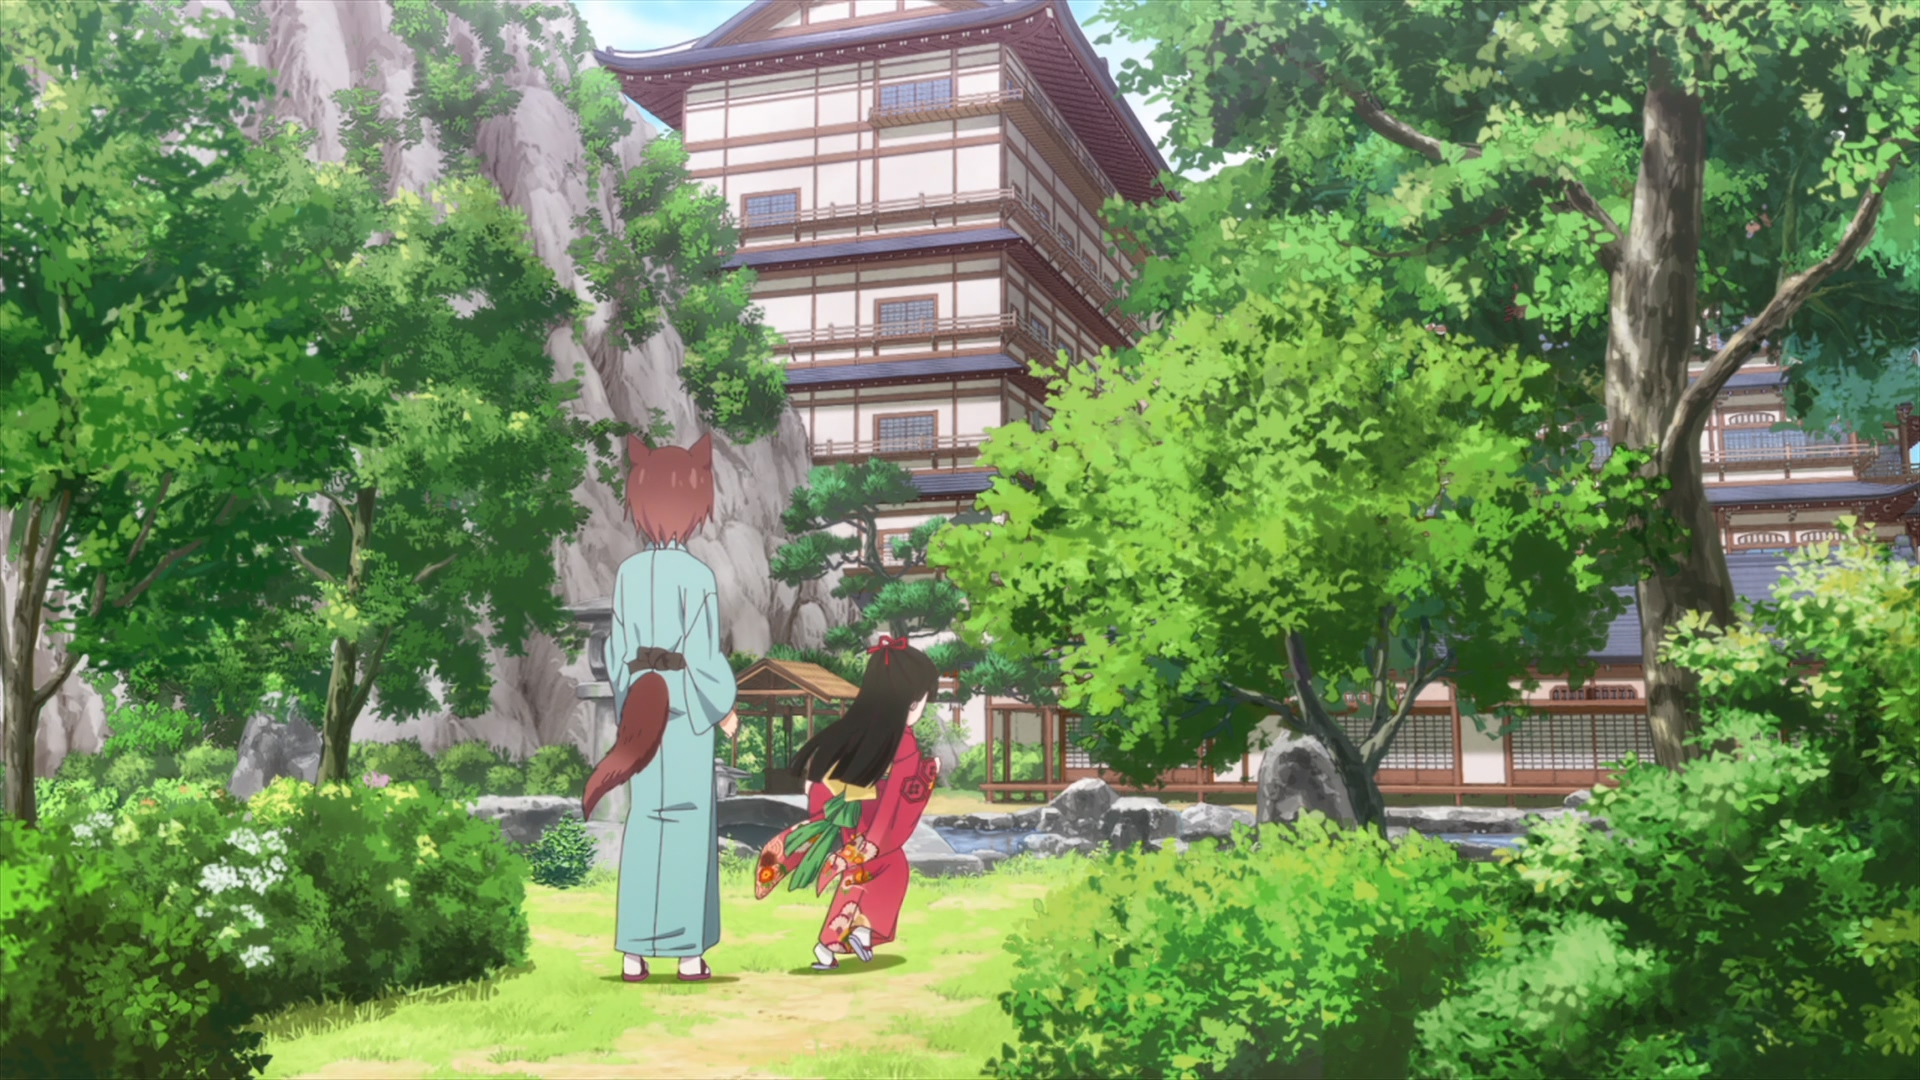其他: (753, 636, 942, 971)
枣: (582, 427, 738, 981)
